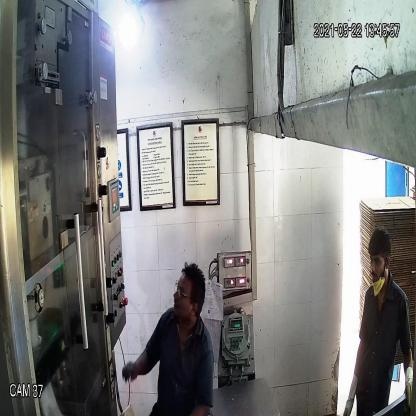goggles: (171, 280, 199, 302)
no_goggles: (367, 252, 389, 271)
